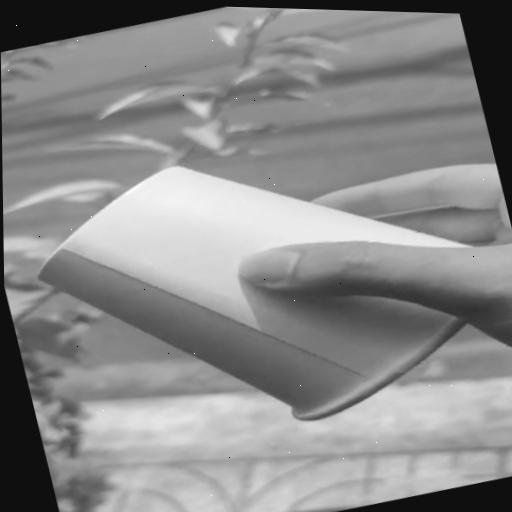ly_giay: (40, 167, 463, 419)
